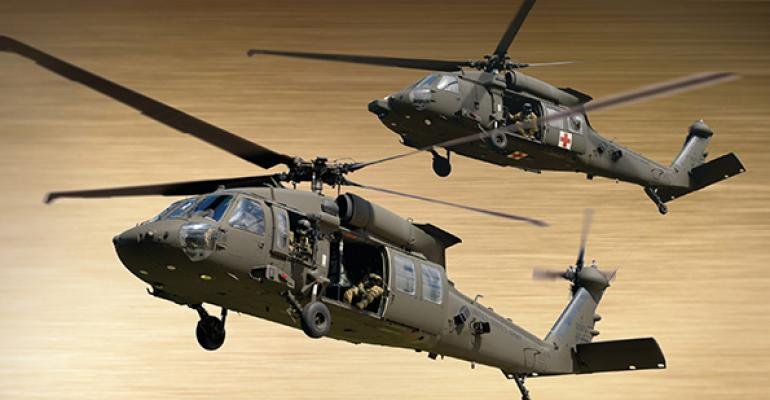MilitaryHelicopter: (94, 176, 636, 382), (243, 27, 760, 189)
